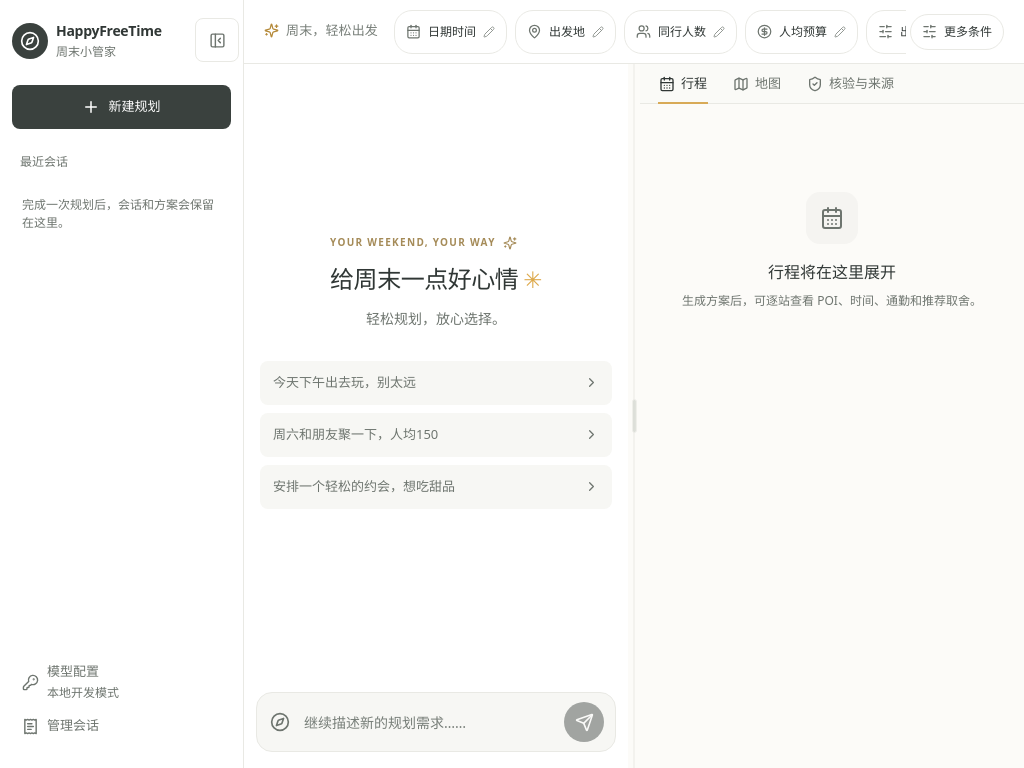
it: planning workspace › shows honest public model usage for rule records
This screenshot has width=1024, height=768.
Type "今天下午出去玩" into the field named "描述你的空闲时间和偏好" at (430, 722), box [296,700,564,744]
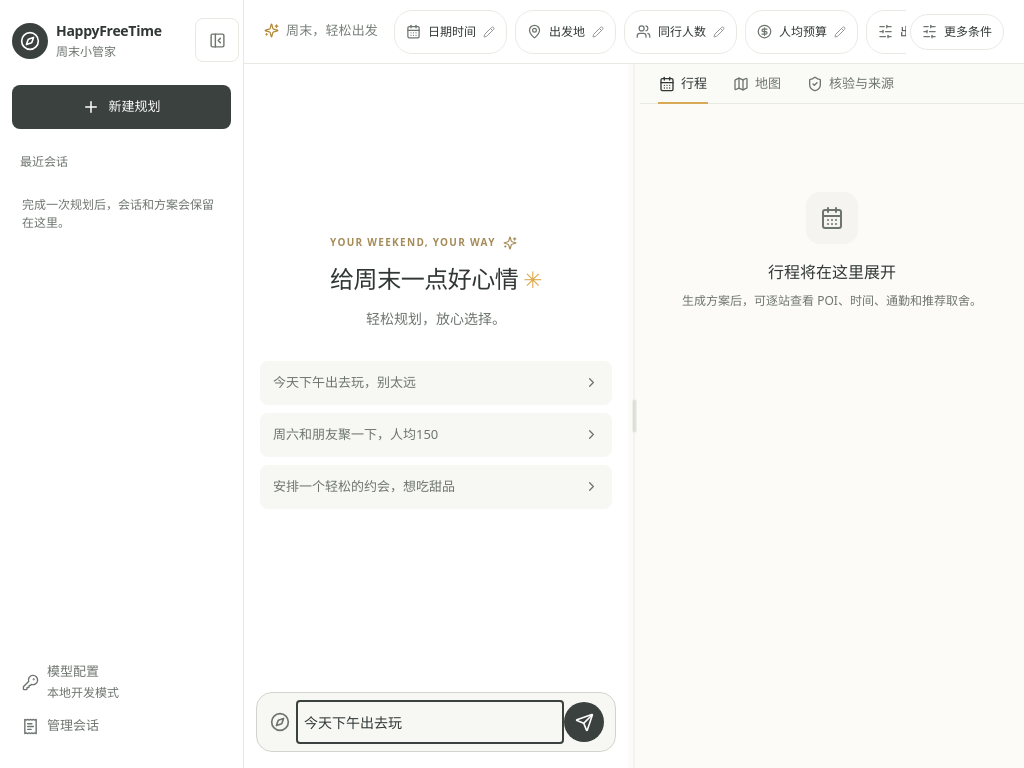
Click the button named "发送需求" at (584, 722), box [564,702,604,742]
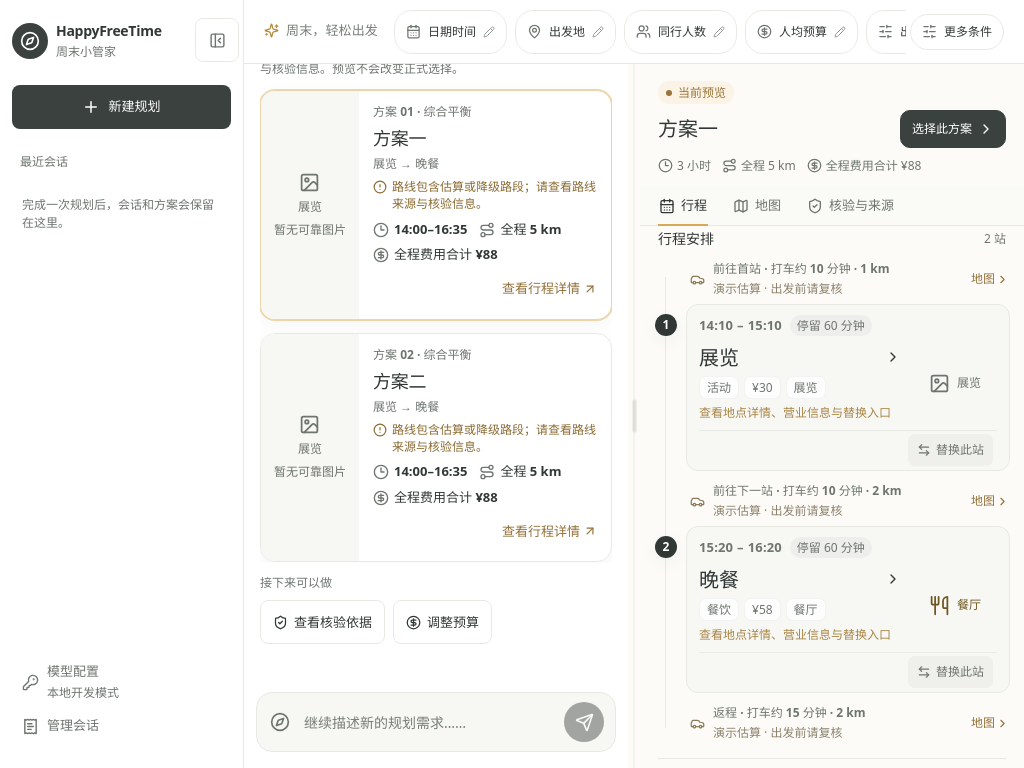
Click the tab "核验与来源" at (850, 206), box [806,186,895,225]
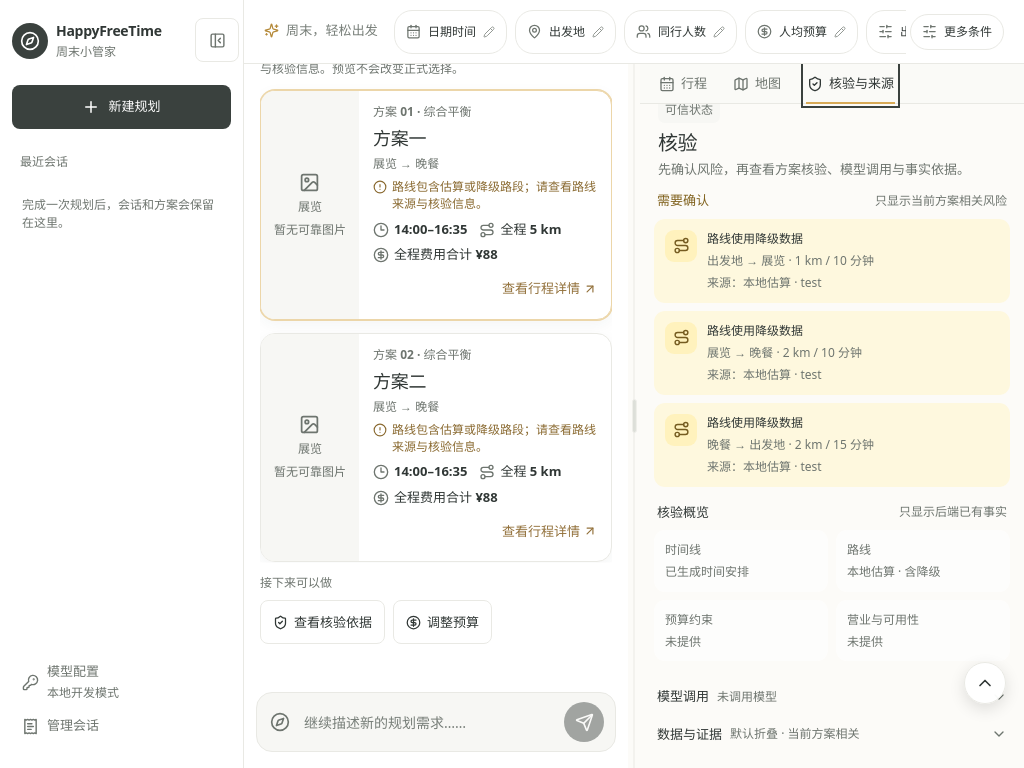
Expected: the element named "本轮模型使用" does not show "private-diagnostic-code", [640,685,1023,710]
Expected: the element named "本轮模型使用" shows "未调用模型", [717,688,777,705]
